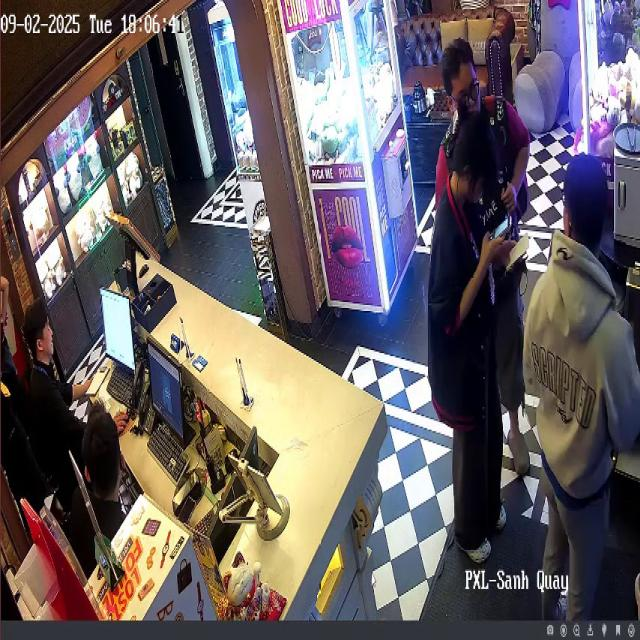khach: (523, 132, 634, 627), (444, 27, 544, 485), (427, 109, 511, 565)
nhan vien: (17, 267, 96, 499), (76, 383, 154, 588)
